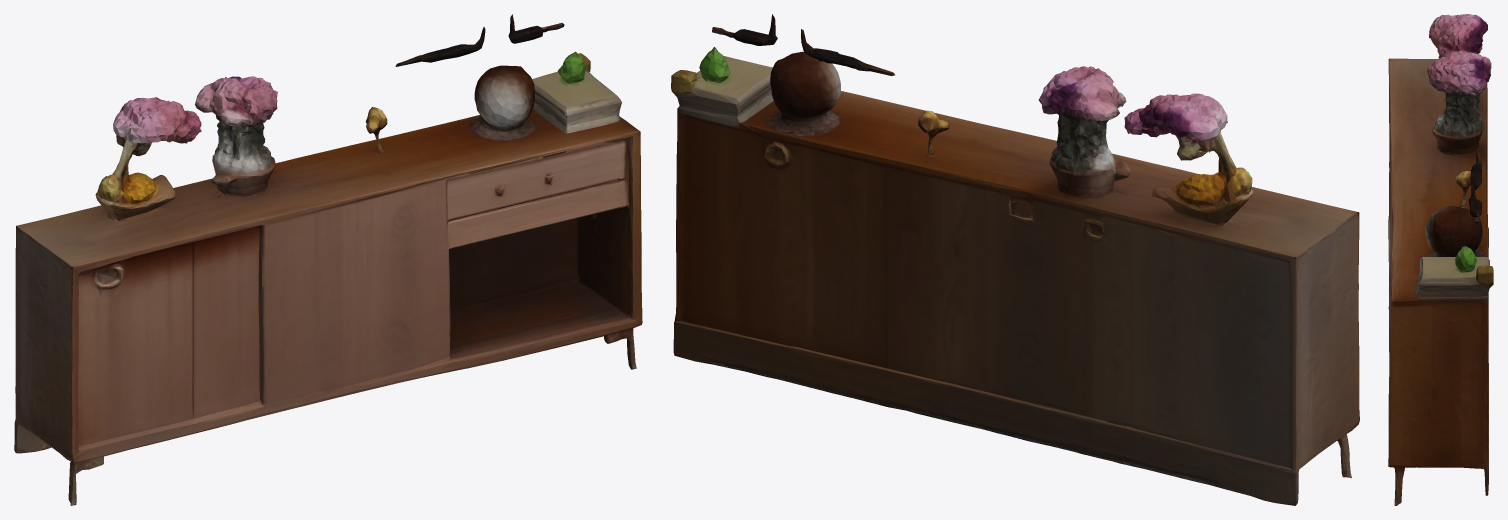
The model's file is ast_b3479a4b5400.glb.
3 renders of one model, left to right at view 1: azimuth 30°, elevation 25°; view 2: azimuth 150°, elevation 25°; view 3: azimuth 270°, elevation 25°, orthographic. The views are drawn at different scales.
Visible parts, largest first — view 1: geometry_0; view 2: geometry_0; view 3: geometry_0.
Boxes of the visible parts, bbox=[...] form: geometry_0: bbox=[14, 14, 642, 505]; geometry_0: bbox=[671, 14, 1359, 505]; geometry_0: bbox=[1388, 14, 1493, 505].
Size of the model in its own units: 1 by 0.5815 by 0.1856.
Materials: 1 (1 with a texture image).
